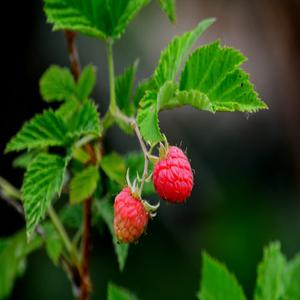raspb: (103, 141, 211, 238)
